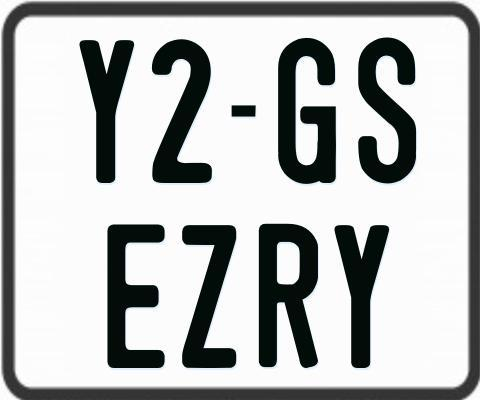2: (149, 38, 214, 184)
E: (107, 222, 166, 366)
G: (275, 37, 337, 185)
R: (257, 224, 319, 368)
S: (358, 34, 421, 184)
Y: (332, 222, 387, 367), (80, 39, 135, 182)
Z: (181, 224, 235, 373)
